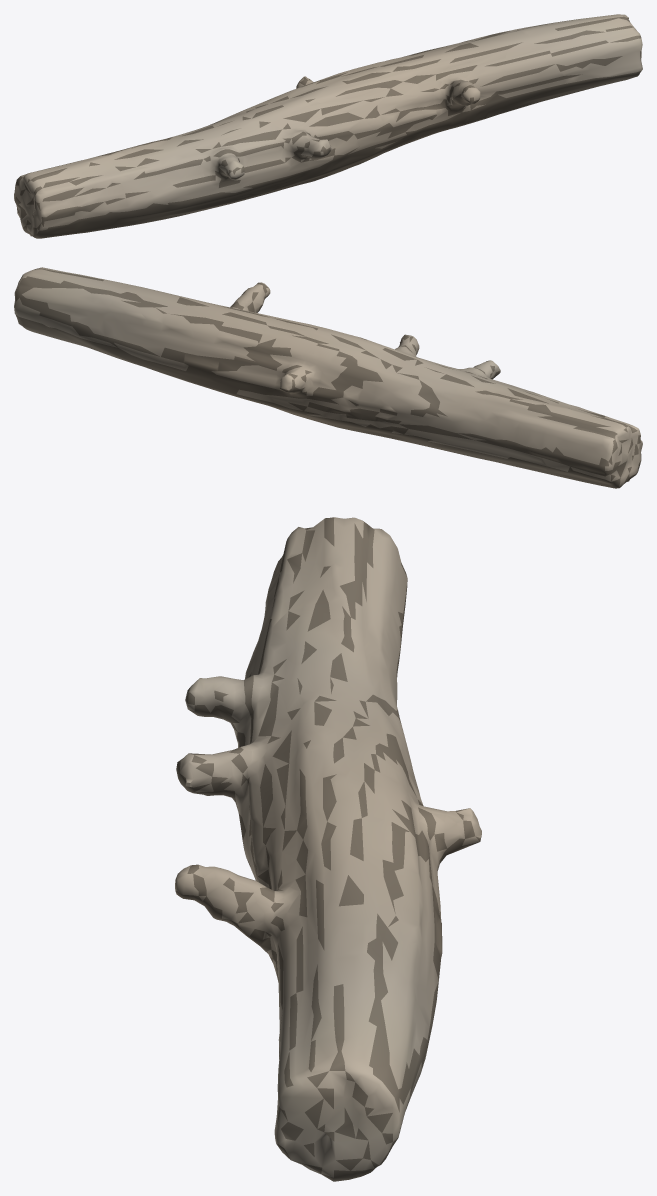
File: shore_driftwood.glb
3 renders of one model, top to bottom at view 1: azimuth 30°, elevation 25°; view 2: azimuth 150°, elevation 25°; view 3: azimuth 270°, elevation 25°, orthographic. The views are drawn at different scales.
Parts seen in each view (by area): view 1: shore_driftwood; view 2: shore_driftwood; view 3: shore_driftwood.
Boxes of the visible parts, x1,y1,x2,y2 form: shore_driftwood: (14,14,642,238); shore_driftwood: (14,267,642,488); shore_driftwood: (175,517,481,1181).
Size of the model in its own units: 22.21 by 3.04 by 4.9.
